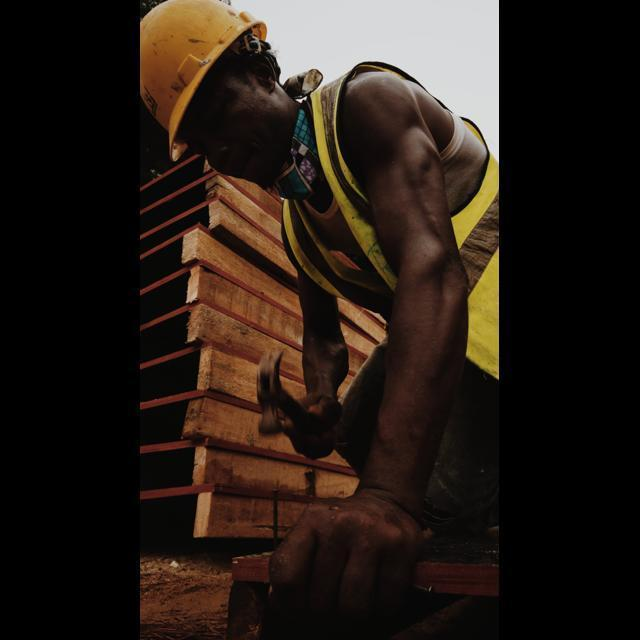Capacete: (140, 0, 266, 160)
Colete: (282, 62, 418, 309)
